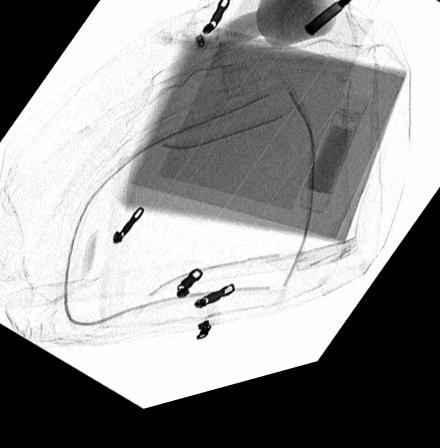Bullet: (300, 3, 364, 55)
